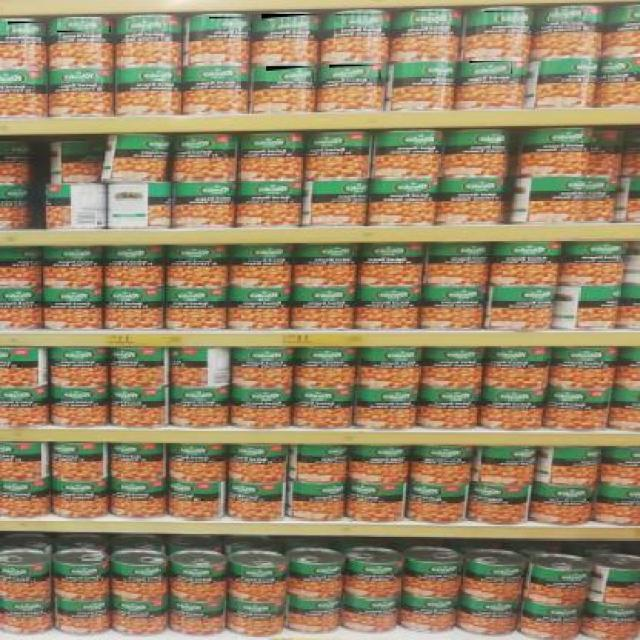Beans: (548, 8, 598, 30), (398, 12, 457, 30), (260, 13, 322, 30), (55, 18, 111, 34), (264, 66, 314, 83), (328, 64, 380, 80), (482, 11, 533, 26), (334, 14, 388, 28), (124, 18, 170, 34), (468, 60, 512, 76), (197, 68, 240, 82), (208, 16, 252, 29), (411, 64, 451, 78), (6, 21, 46, 34)
